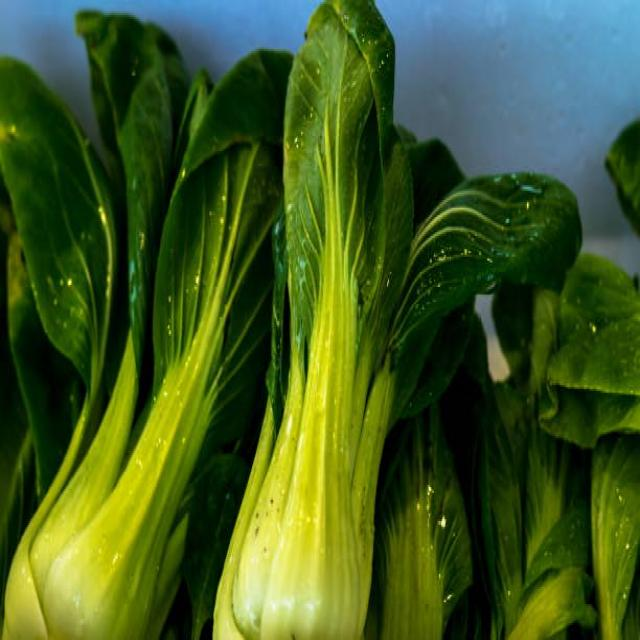bok choy: (258, 23, 433, 640), (18, 50, 201, 640)
